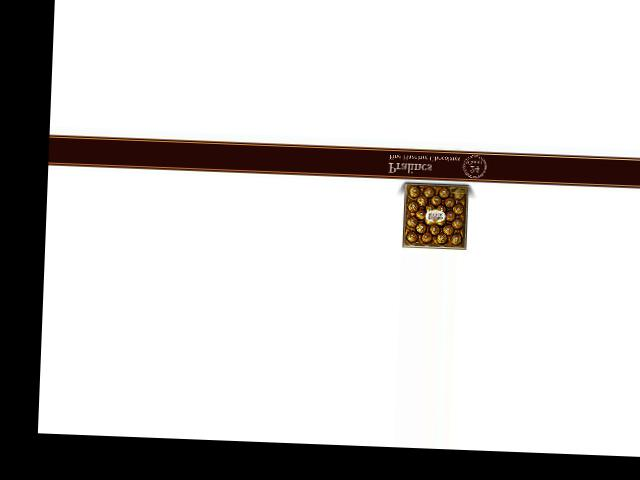chocolate: (399, 179, 473, 254)
